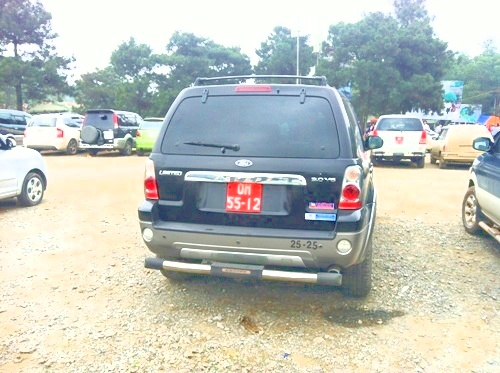plate: (224, 181, 268, 216)
